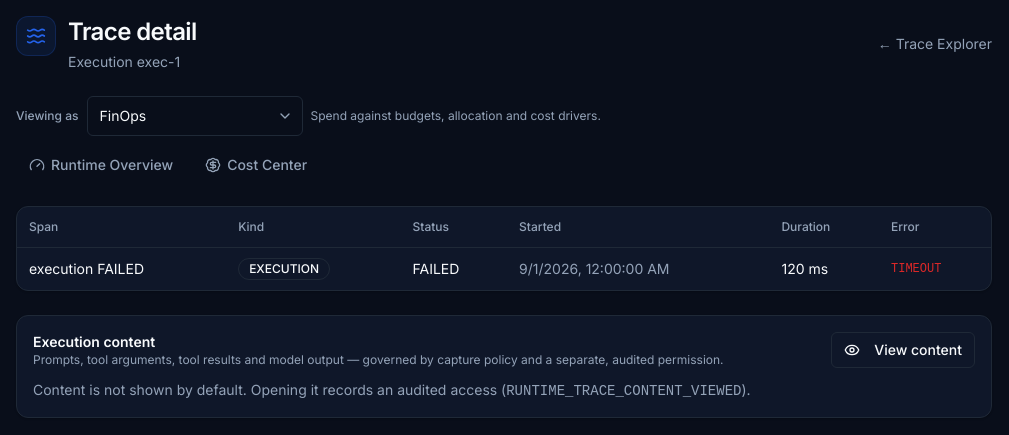
it: content governance (§4.3) › AC-11 — a 404 is "trace not found", distinct from the 403
Click the button "View content": (903,350) [831,332,975,368]
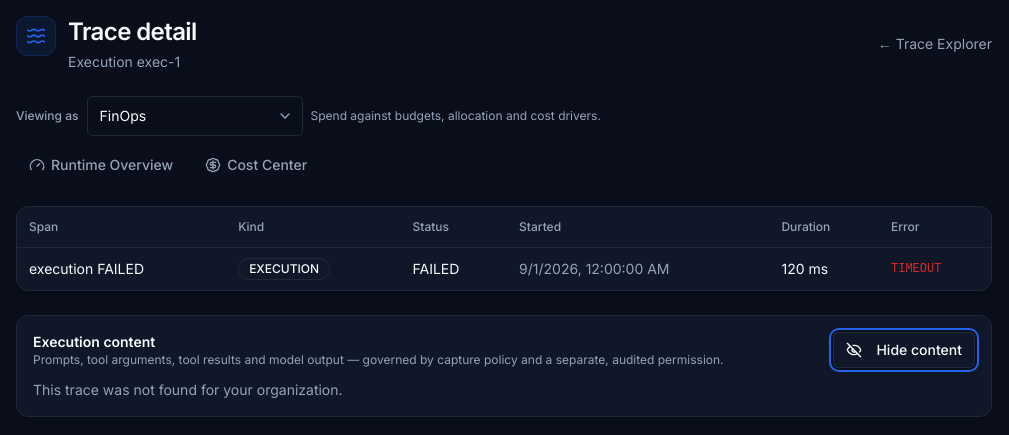
Result: the text "This trace was not found for your organization." is shown at [33,380,343,398]
